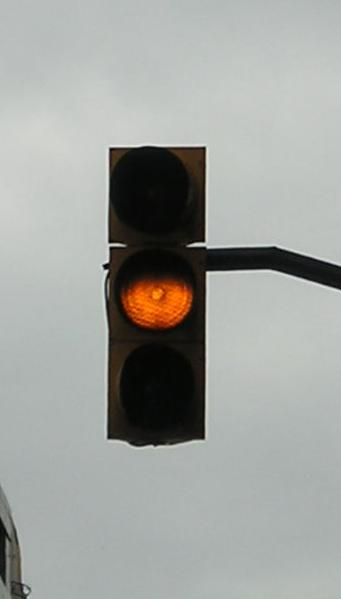yellow_light: (106, 145, 205, 441)
